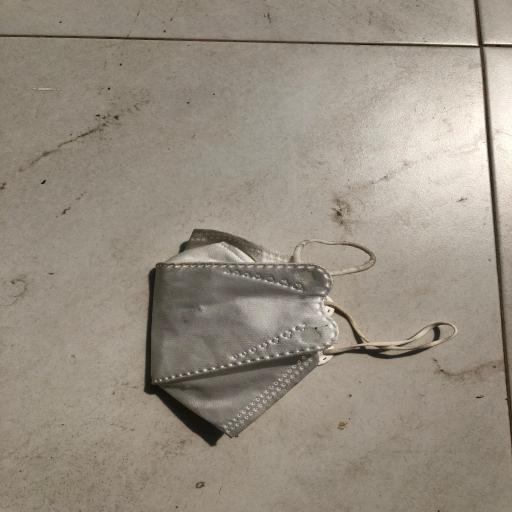waste: (128, 207, 468, 444)
